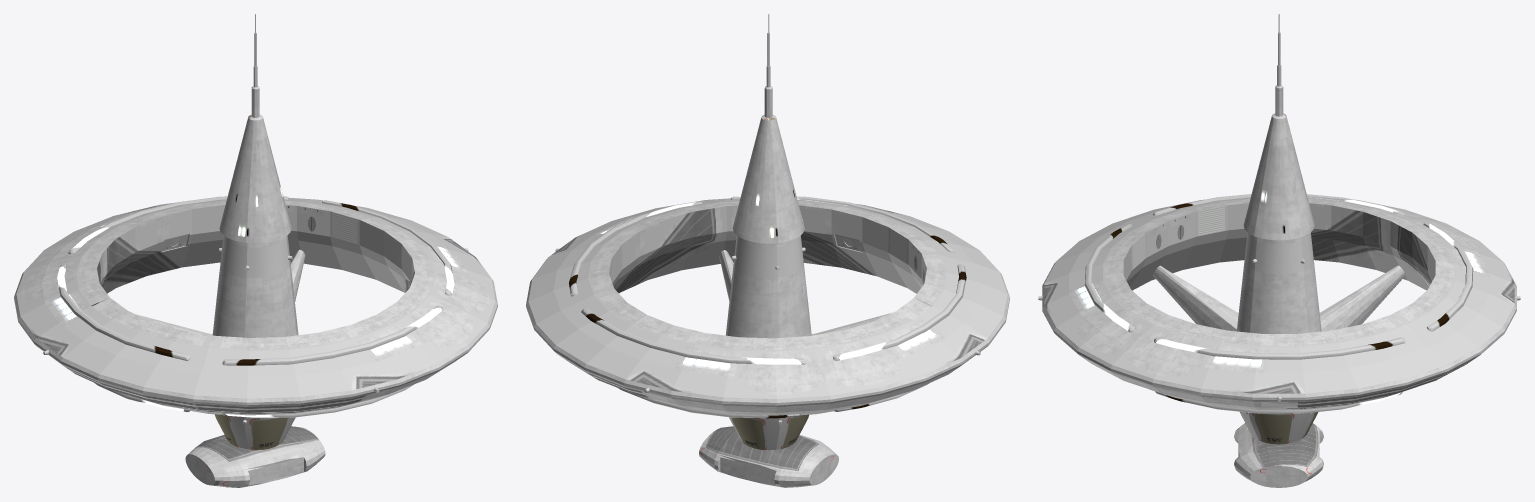
Rendered from Fed_Small_Turret.fbx.
The picture shows the model from 3 angles, left to right: view 1: azimuth 30°, elevation 25°; view 2: azimuth 150°, elevation 25°; view 3: azimuth 270°, elevation 25°; orthographic projection.
Parts seen in each view (by area): view 1: Fed_Small_Turret1, Fed_Small_Turret0; view 2: Fed_Small_Turret1, Fed_Small_Turret0; view 3: Fed_Small_Turret1, Fed_Small_Turret0.
Part boxes in pixels (x1=…): Fed_Small_Turret1: x1=14, y1=14, x2=497, y2=487; Fed_Small_Turret0: x1=57, y1=114, x2=454, y2=450; Fed_Small_Turret1: x1=526, y1=14, x2=1009, y2=487; Fed_Small_Turret0: x1=569, y1=114, x2=966, y2=450; Fed_Small_Turret1: x1=1038, y1=14, x2=1520, y2=487; Fed_Small_Turret0: x1=1084, y1=113, x2=1473, y2=444.
Size of the model in its own units: 174 by 181 by 174.
Materials: 1 (1 with a texture image).
